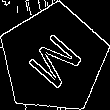M_SE: (20, 25, 87, 93)
